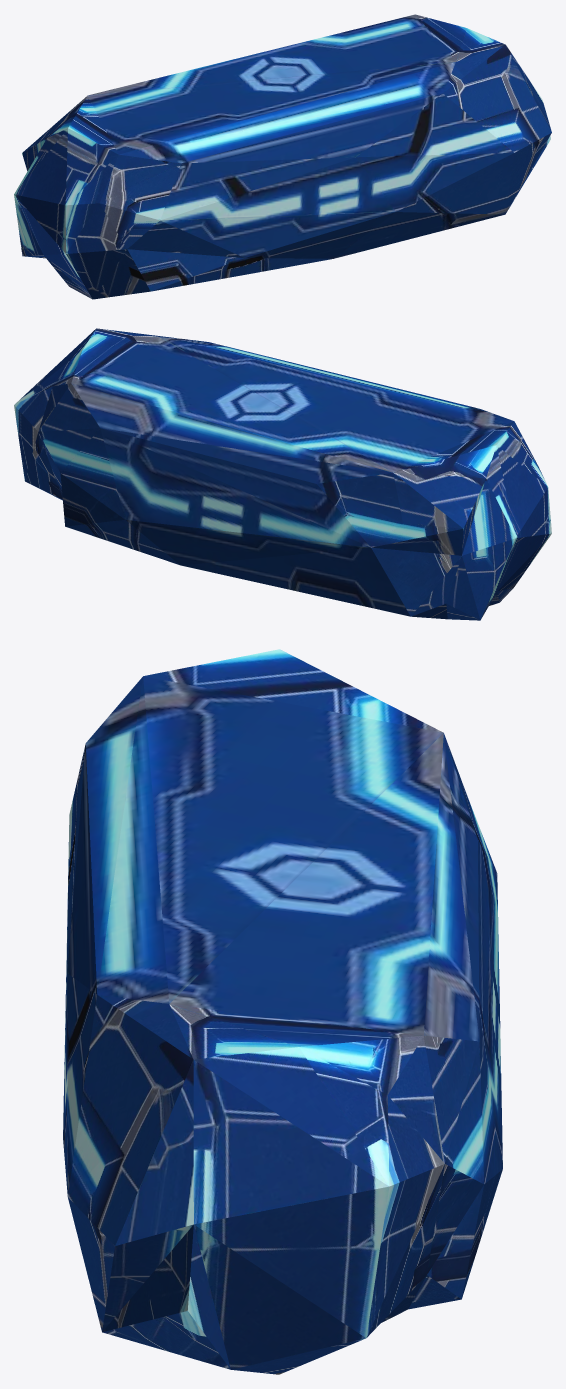
The model's file is bar-cobalt.glb.
The picture shows the model from 3 angles, top to bottom: view 1: azimuth 30°, elevation 25°; view 2: azimuth 150°, elevation 25°; view 3: azimuth 270°, elevation 25°; orthographic projection. The views are drawn at different scales.
Parts seen in each view (by area): view 1: output_unwrapped; view 2: output_unwrapped; view 3: output_unwrapped.
Boxes of the visible parts, <box> form: output_unwrapped: <box>14,14,551,299</box>; output_unwrapped: <box>14,328,551,620</box>; output_unwrapped: <box>63,649,502,1374</box>.
Size of the model in its own units: 1.8 by 0.5726 by 0.692.
Materials: 1 (1 with a texture image).
